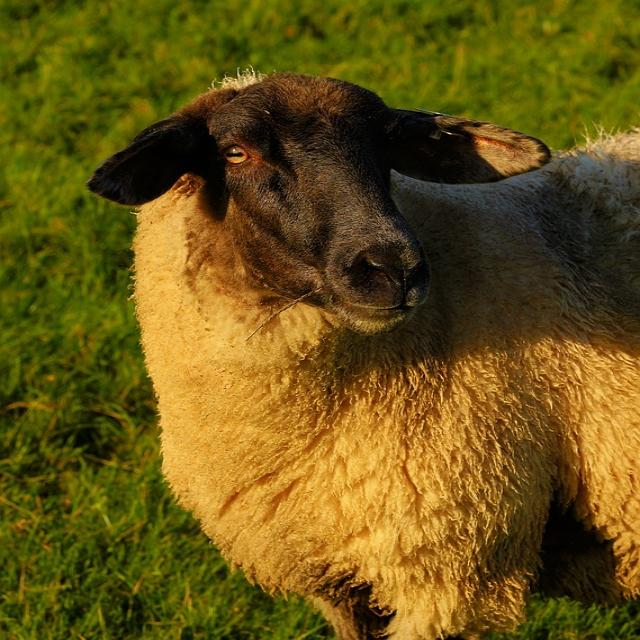goat: (87, 74, 640, 640)
